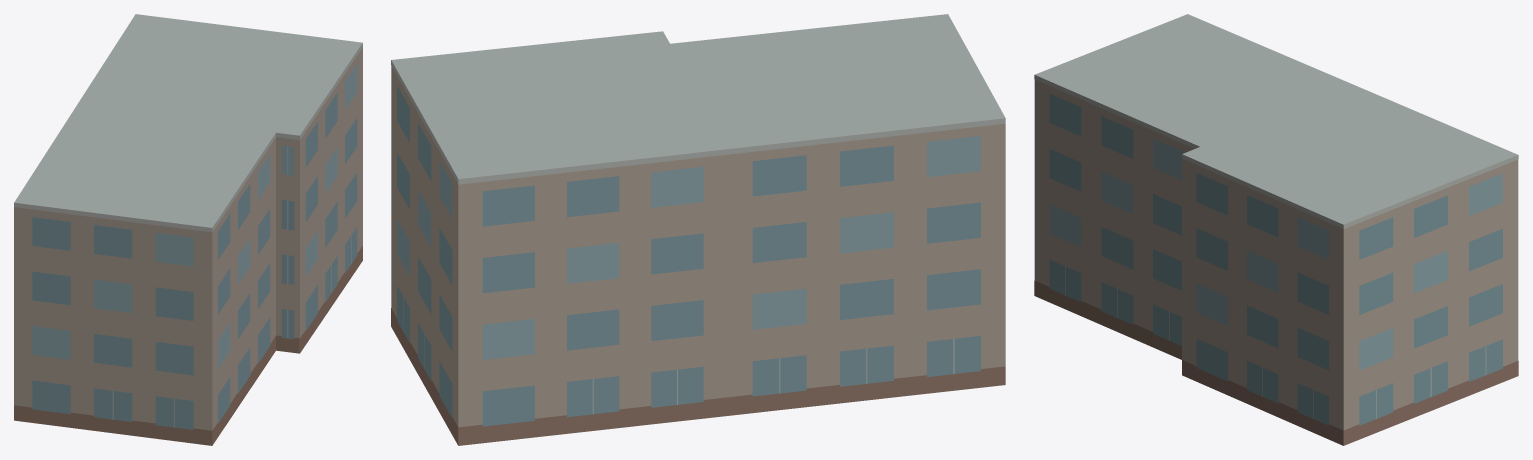
The model's file is survey-upis-32834312.glb.
The picture shows the model from 3 angles, left to right: view 1: azimuth 30°, elevation 25°; view 2: azimuth 150°, elevation 25°; view 3: azimuth 270°, elevation 25°; orthographic projection. The views are drawn at different scales.
Visible parts, largest first — view 1: survey-upis-32834312.tmp; view 2: survey-upis-32834312.tmp; view 3: survey-upis-32834312.tmp.
Boxes of the visible parts, x1,y1,x2,y2 form: survey-upis-32834312.tmp: (14,14,362,445); survey-upis-32834312.tmp: (391,14,1005,445); survey-upis-32834312.tmp: (1034,14,1518,445).
Size of the model in its own units: 24.53 by 12 by 23.8.
